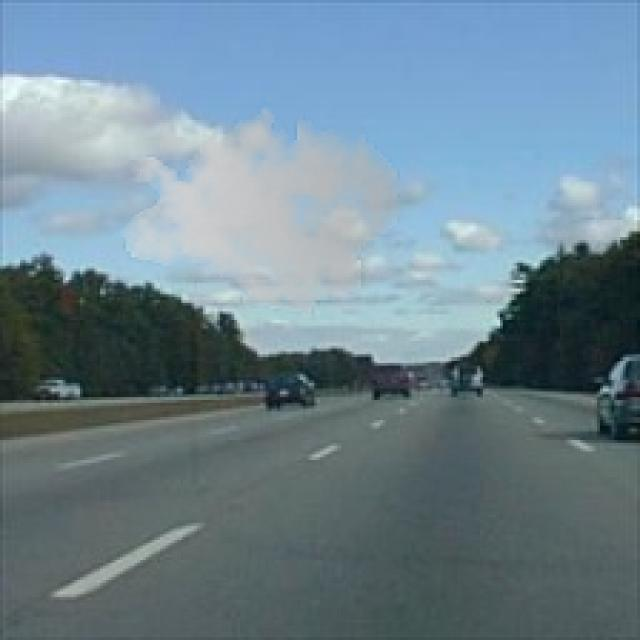Smoke: (120, 94, 403, 323)
